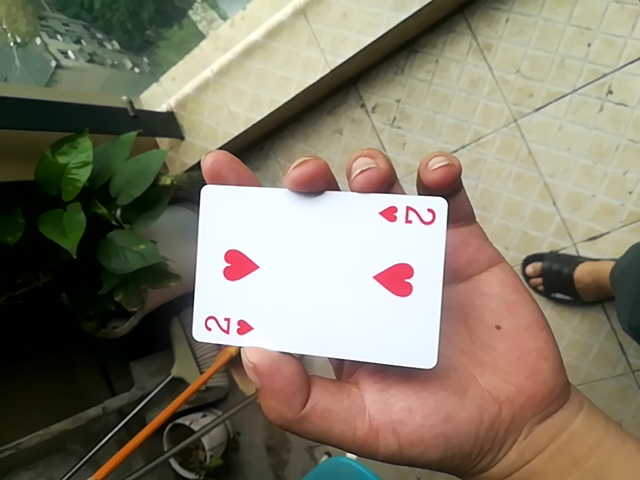hx 2: (184, 181, 450, 369)
